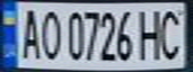0: (63, 7, 84, 61)
2: (100, 7, 118, 61)
6: (115, 7, 139, 62)
7: (81, 7, 100, 61)
A: (15, 4, 42, 61)
C: (157, 6, 187, 61)
H: (136, 6, 166, 61)
O: (36, 6, 63, 61)
